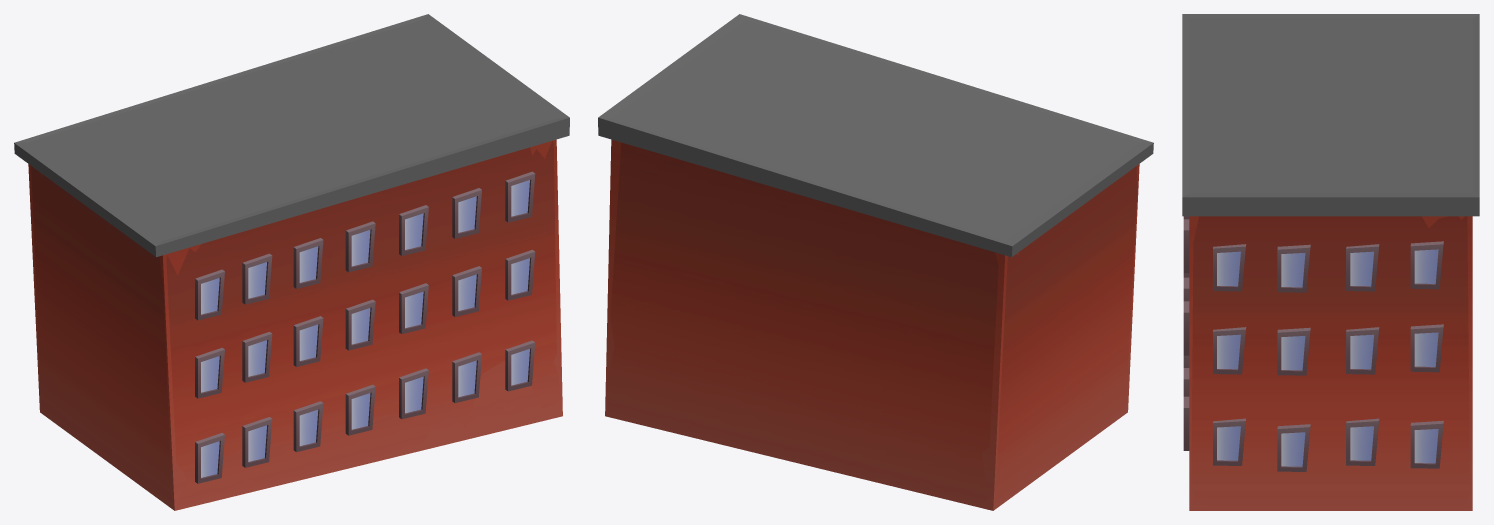
Rendered from SM_Building2.fbx.
The picture shows the model from 3 angles, left to right: view 1: azimuth 30°, elevation 25°; view 2: azimuth 150°, elevation 25°; view 3: azimuth 270°, elevation 25°; orthographic projection. The views are drawn at different scales.
Visible parts, largest first — view 1: Cube.029; view 2: Cube.029; view 3: Cube.029.
Part boxes in pixels (bbox=[...]): Cube.029: bbox=[14, 14, 569, 510]; Cube.029: bbox=[598, 14, 1153, 510]; Cube.029: bbox=[1182, 14, 1479, 510].
Bounding box in the file's own units: 38.05 × 26.16 × 22.34.
